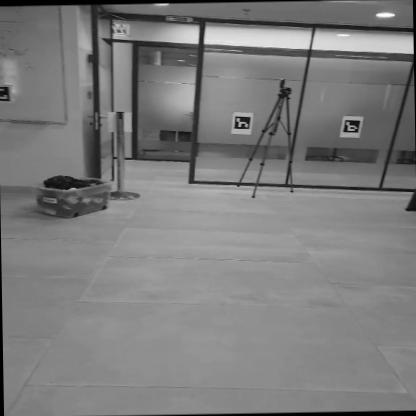open: (116, 42, 196, 184)
